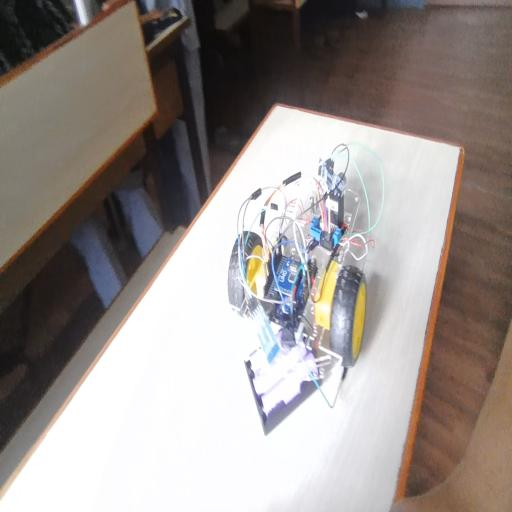car: (224, 134, 386, 416)
